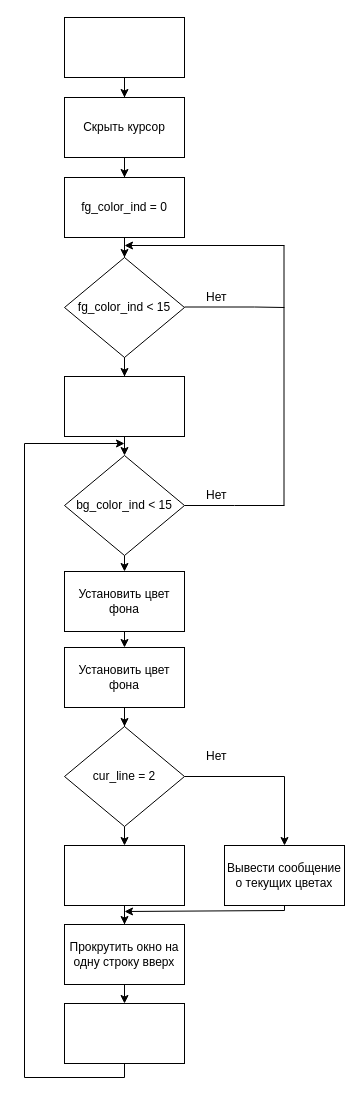
This 362x1096 diagram has some shape labels left out. Here are the shapes that lost their labels. From the top down, the box of each, then its label:
(64, 16, 184, 78): Очистить экран
(64, 376, 184, 436): bg_color_ind = 0
(64, 844, 184, 906): Вывести обычно сообщение
(64, 1002, 184, 1064): Ждать 1.3 секунды
